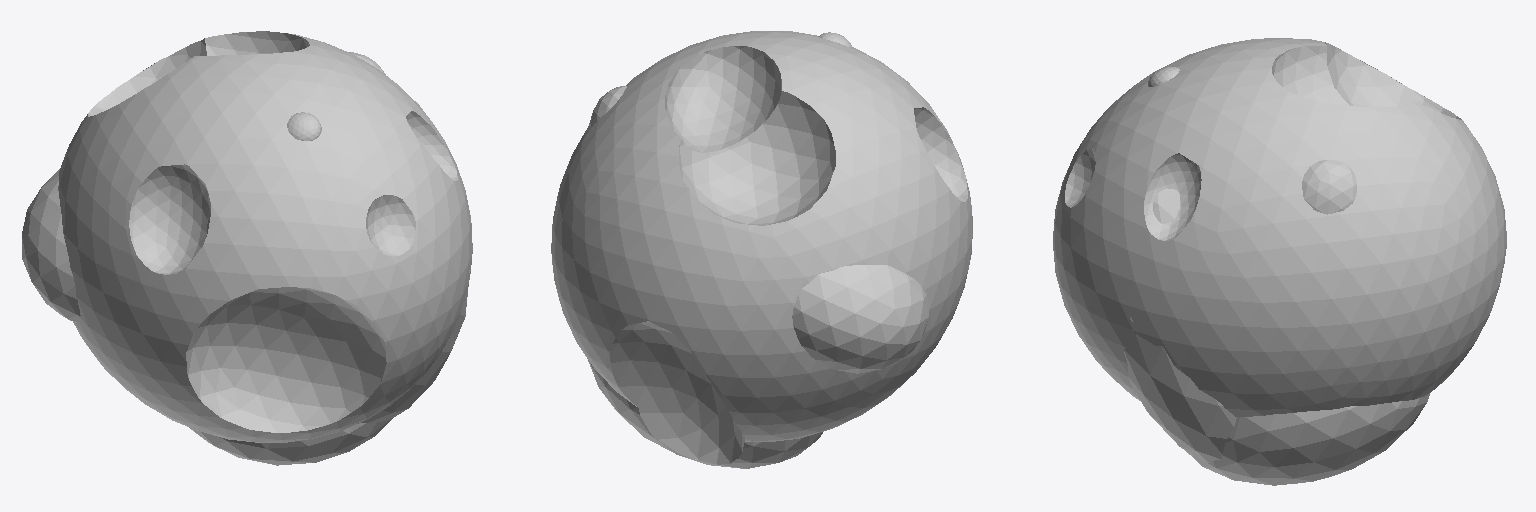
The model's file is asteroid.obj.
3 views of the same model, side by side, from view 1: azimuth 30°, elevation 25°; view 2: azimuth 150°, elevation 25°; view 3: azimuth 270°, elevation 25° (orthographic).
Visible parts, largest first — view 1: Icosphere; view 2: Icosphere; view 3: Icosphere.
Part boxes in pixels (bbox=[...]): Icosphere: bbox=[22, 31, 472, 465]; Icosphere: bbox=[551, 31, 972, 468]; Icosphere: bbox=[1053, 38, 1506, 485].
Bounding box in the file's own units: 0.9548 × 1 × 1.02.